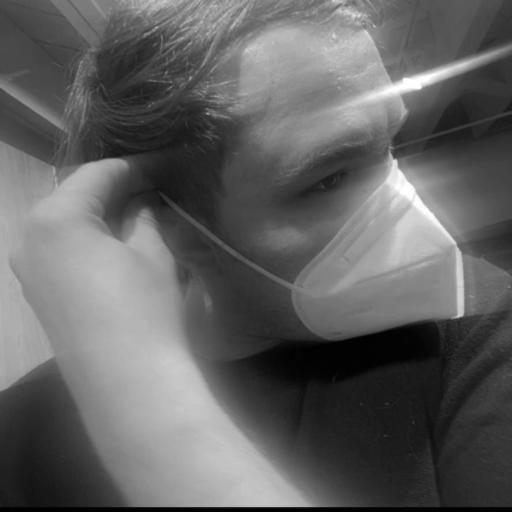mask: (96, 0, 509, 316)
